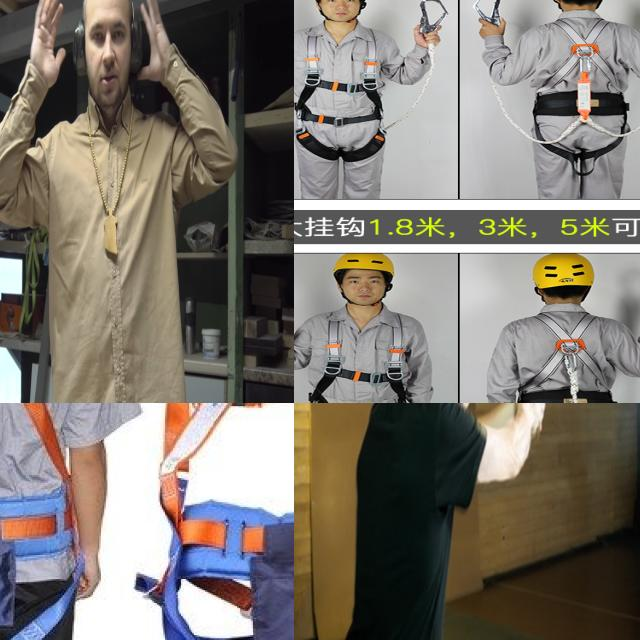Ear-protection: (69, 0, 146, 108)
Harness: (150, 403, 294, 640), (0, 403, 80, 640), (294, 20, 402, 163), (538, 14, 636, 168), (295, 311, 418, 403), (513, 308, 625, 403), (414, 0, 449, 45), (471, 0, 508, 32)
No_Glasses: (86, 8, 130, 47), (344, 274, 383, 287), (323, 0, 358, 4)
person: (328, 403, 508, 640)
